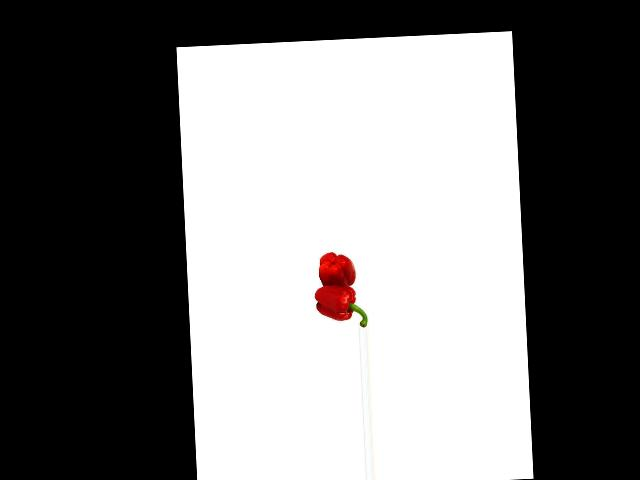bell_pepper: (315, 251, 358, 287)
